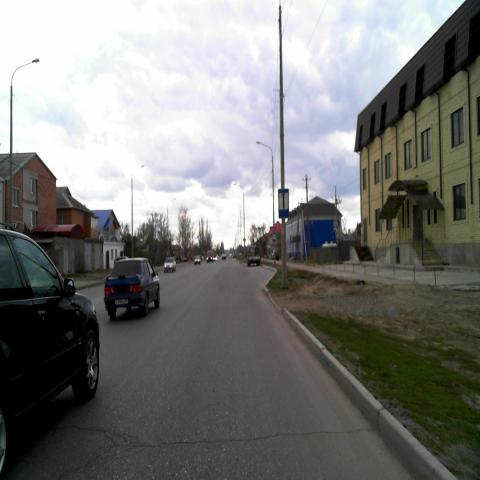7_4: (279, 188, 289, 217)
